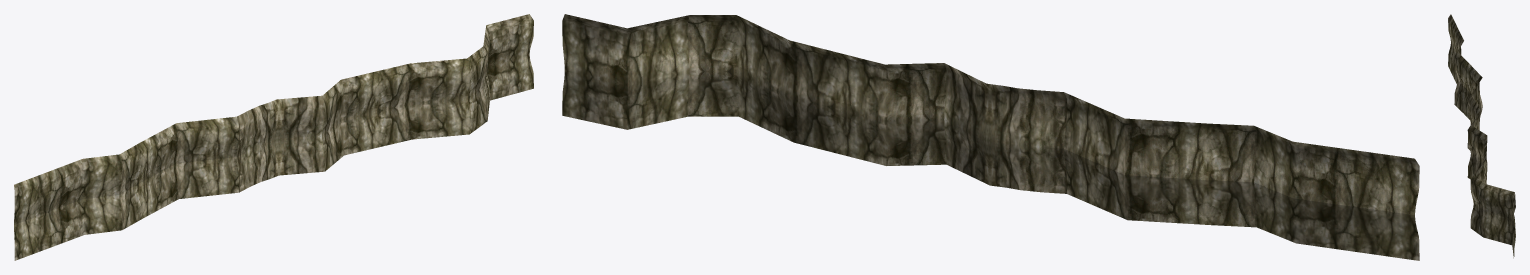
File: CB_NEWPLAYSURFACE_CB_PLAYSURFACE38.fbx
3 renders of one model, left to right at view 1: azimuth 30°, elevation 25°; view 2: azimuth 150°, elevation 25°; view 3: azimuth 270°, elevation 25°, orthographic. The views are drawn at different scales.
Visible parts, largest first — view 1: CB_NEWPLAYSURFACE_CB_PLAYSURFACE38; view 2: CB_NEWPLAYSURFACE_CB_PLAYSURFACE38; view 3: CB_NEWPLAYSURFACE_CB_PLAYSURFACE38.
Part boxes in pixels (bbox=[...]): CB_NEWPLAYSURFACE_CB_PLAYSURFACE38: bbox=[14, 14, 533, 260]; CB_NEWPLAYSURFACE_CB_PLAYSURFACE38: bbox=[562, 14, 1419, 260]; CB_NEWPLAYSURFACE_CB_PLAYSURFACE38: bbox=[1448, 14, 1515, 258].
Size of the model in its own units: 585072 by 73541 by 86164.
1 material, 1 textured.
